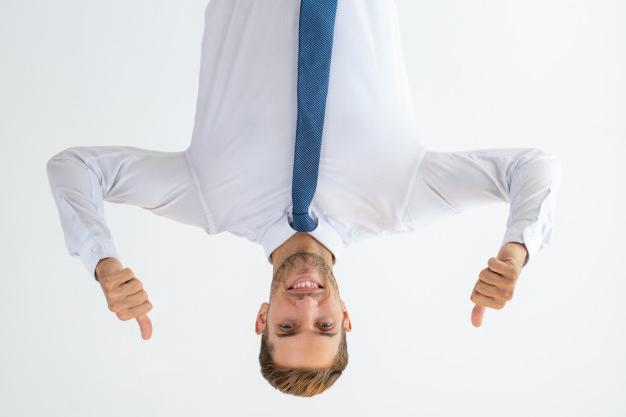thumbsdown: (100, 268, 153, 340), (470, 258, 518, 328)
